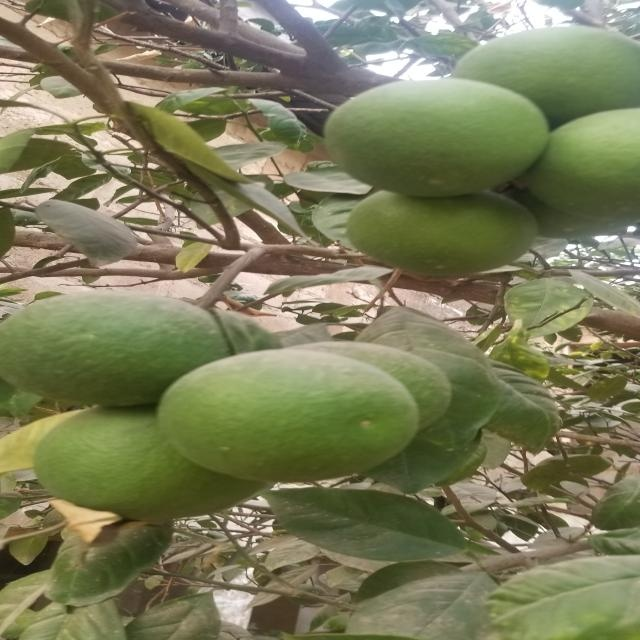agrume: (160, 352, 415, 496), (320, 76, 542, 200), (16, 287, 222, 397), (346, 184, 552, 283), (467, 20, 617, 109)
